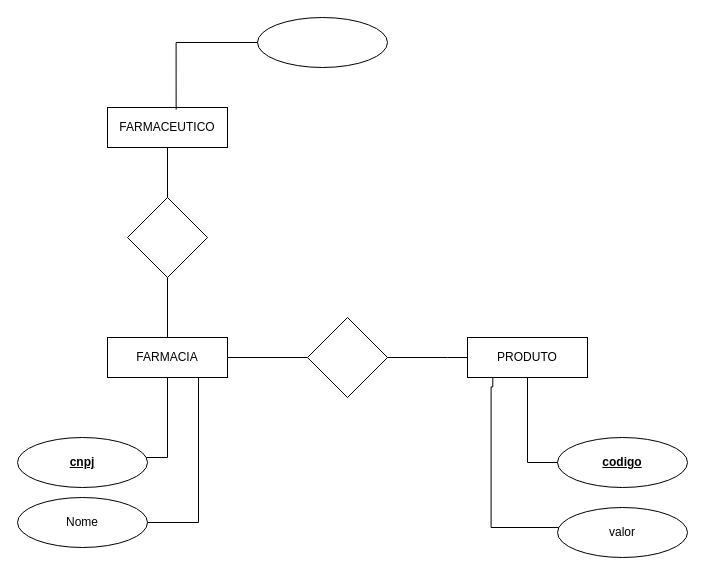
Image size: 705x575. Some labels were removed from this diagram. Each missing label, with the centre of its shape:
"cpf" belongs at pixel 322 42.
"trabalha" belongs at pixel 167 237.
"vende" belongs at pixel 347 357.
